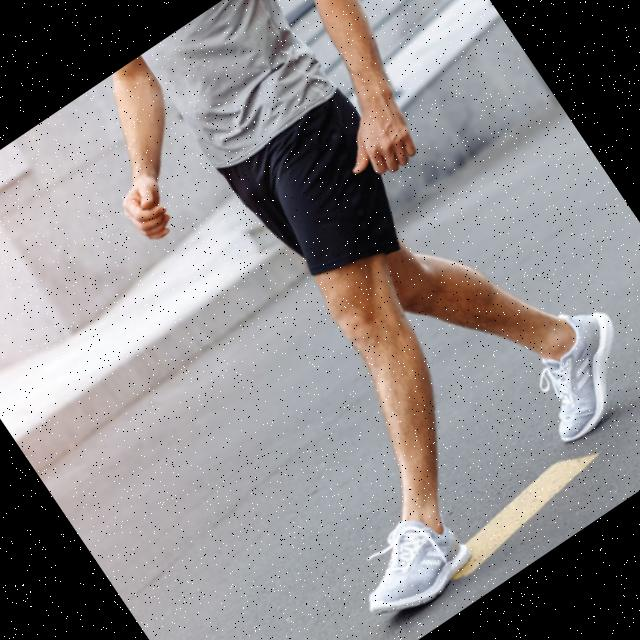Person: (39, 0, 640, 638)
